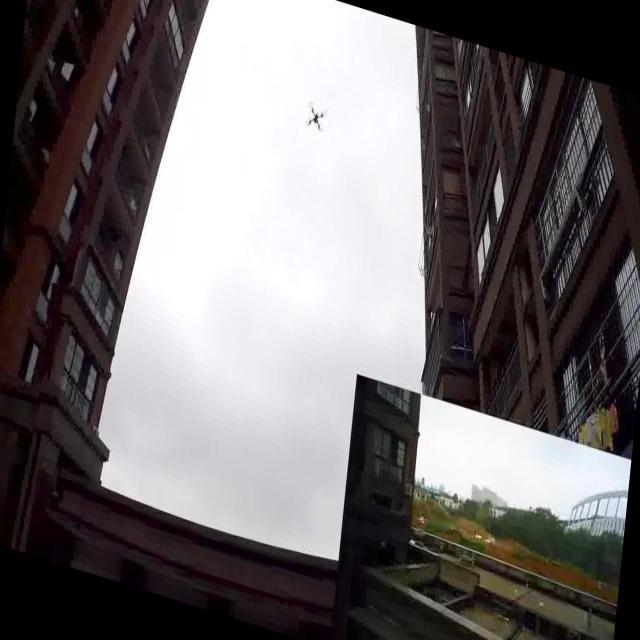drone: (302, 86, 332, 141)
